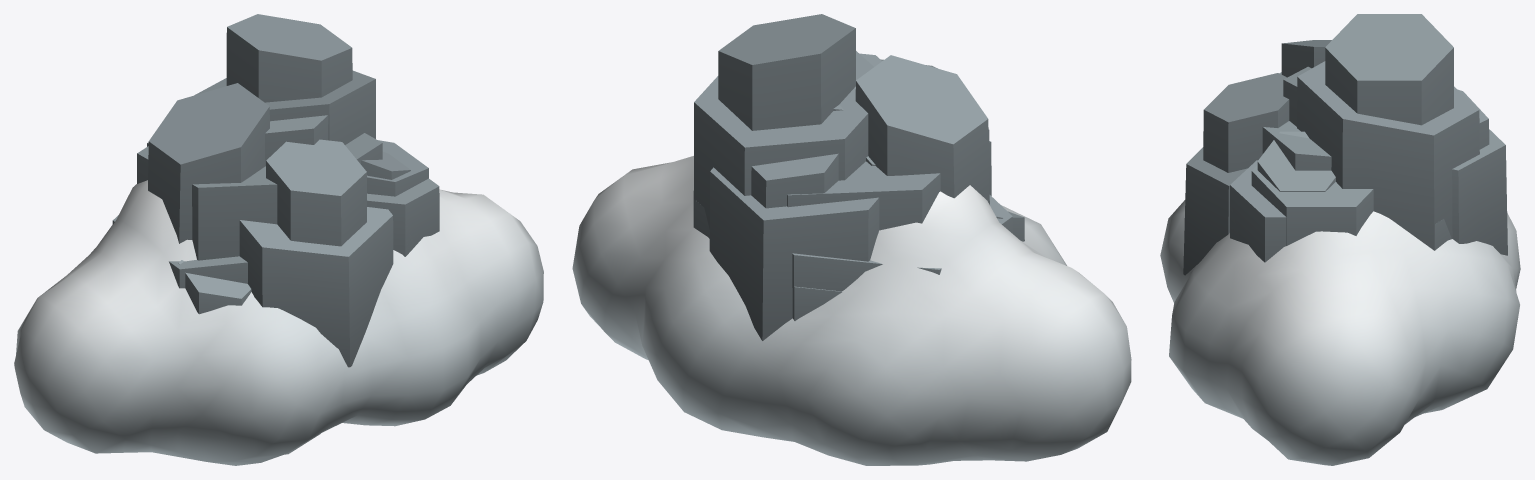
The model's file is nature.glb.
The picture shows the model from 3 angles, left to right: view 1: azimuth 30°, elevation 25°; view 2: azimuth 150°, elevation 25°; view 3: azimuth 270°, elevation 25°; orthographic projection. The views are drawn at different scales.
Visible parts, largest first — view 1: cloud_big, mountain_C, mountain_B, mountain_A; view 2: cloud_big, mountain_C, mountain_B, mountain_A; view 3: cloud_big, mountain_B, mountain_C, mountain_A.
Part boxes in pixels (x1,y1,x2,y2): cloud_big: [14, 180, 543, 465]; mountain_C: [147, 83, 413, 367]; mountain_B: [112, 14, 428, 288]; mountain_A: [137, 115, 439, 260]; cloud_big: [572, 156, 1131, 465]; mountain_C: [709, 55, 1024, 340]; mountain_B: [693, 14, 1012, 320]; mountain_A: [694, 53, 989, 320]; cloud_big: [1160, 200, 1520, 465]; mountain_B: [1251, 14, 1479, 250]; mountain_C: [1183, 40, 1507, 275]; mountain_A: [1230, 66, 1451, 262].
Bounding box in the file's own units: 3.61 × 2.68 × 2.24.
Materials: 1 (1 with a texture image).
